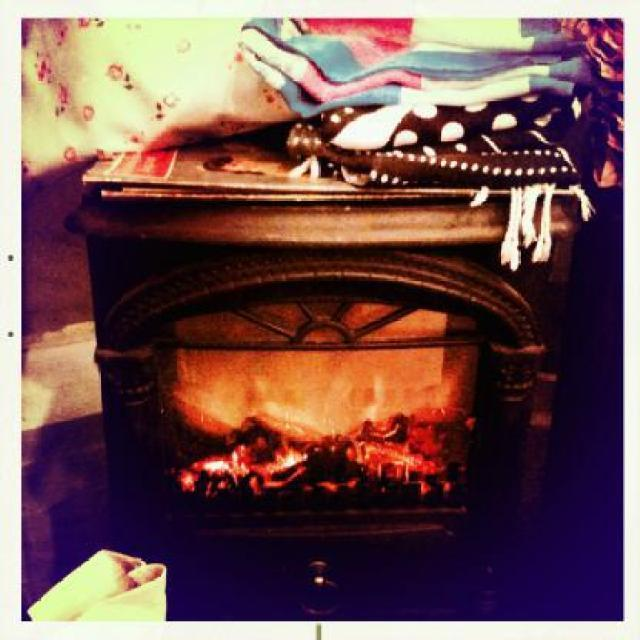Fire: (172, 350, 471, 501)
